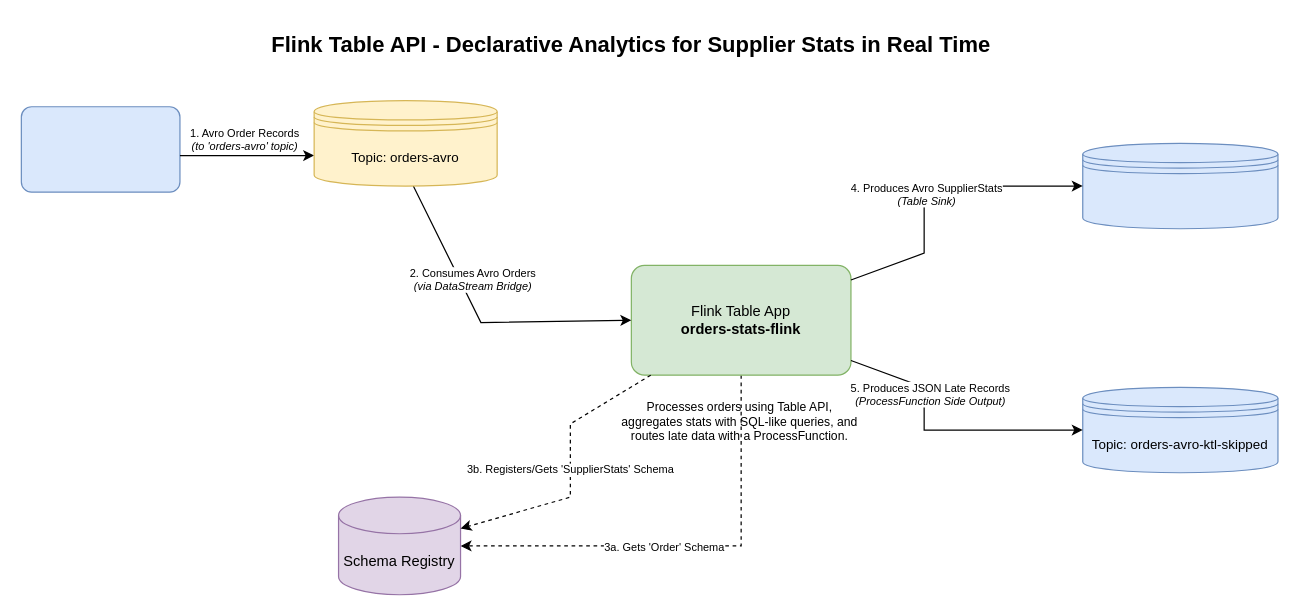
This 1299x616 diagram has some shape labels left out. Here are the shapes that lost their labels. From the top down, the box of each, then its label:
(20, 106, 180, 192): Order Producer (From Part 2)
(1082, 142, 1278, 229): Topic: orders-avro-ktl-stats
